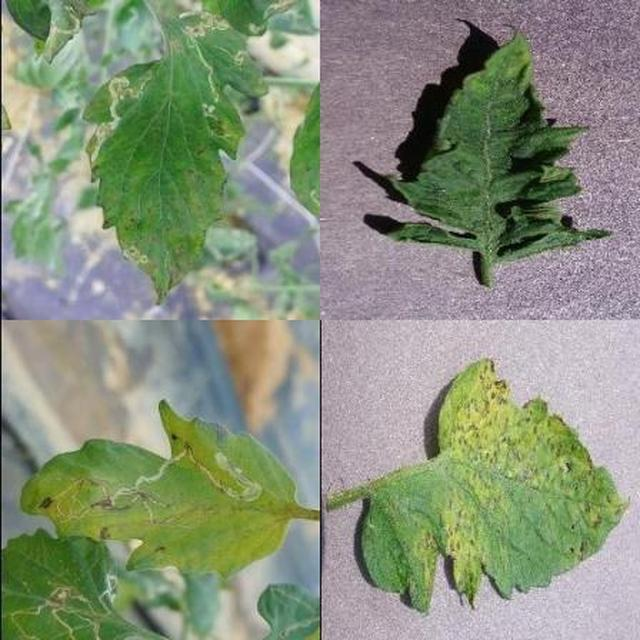Leaf Miner: (224, 205, 640, 640)
